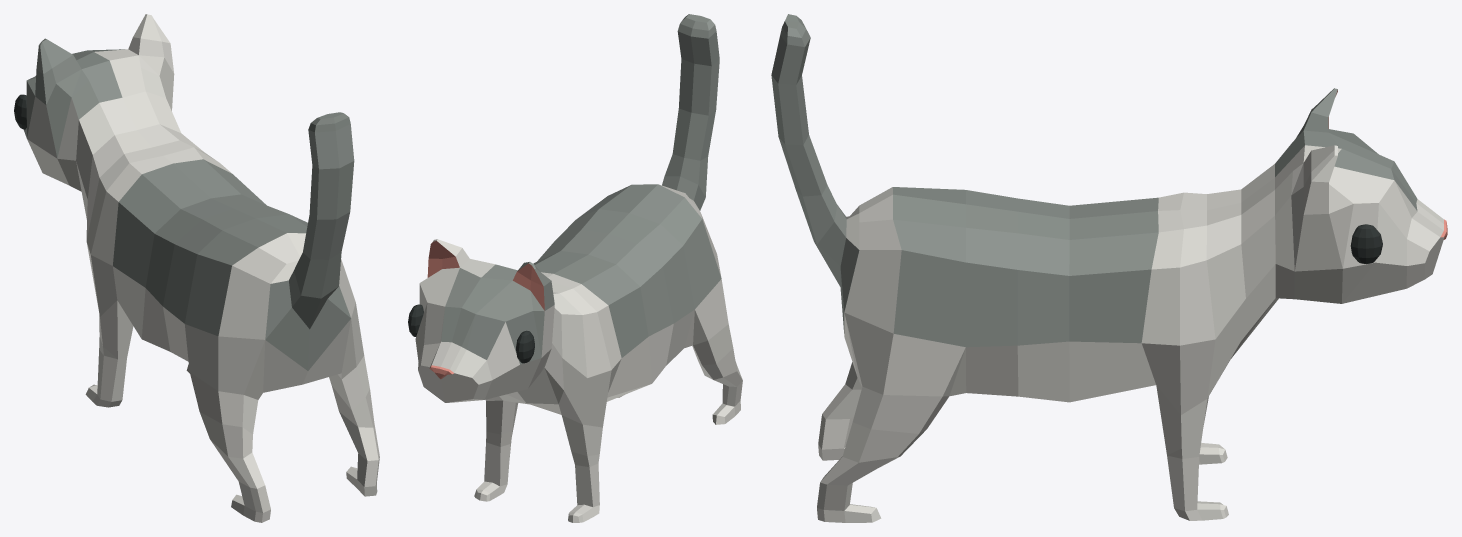
Rendered from pearl.glb.
The picture shows the model from 3 angles, left to right: view 1: azimuth 30°, elevation 25°; view 2: azimuth 150°, elevation 25°; view 3: azimuth 270°, elevation 25°; orthographic projection. The views are drawn at different scales.
Visible parts, largest first — view 1: pearl; view 2: pearl; view 3: pearl.
Part boxes in pixels (x1,y1,x2,y2): pearl: (14,14,379,522); pearl: (408,14,742,522); pearl: (771,14,1447,522).
Size of the model in its own units: 0.2211 by 0.561 by 0.7352.
